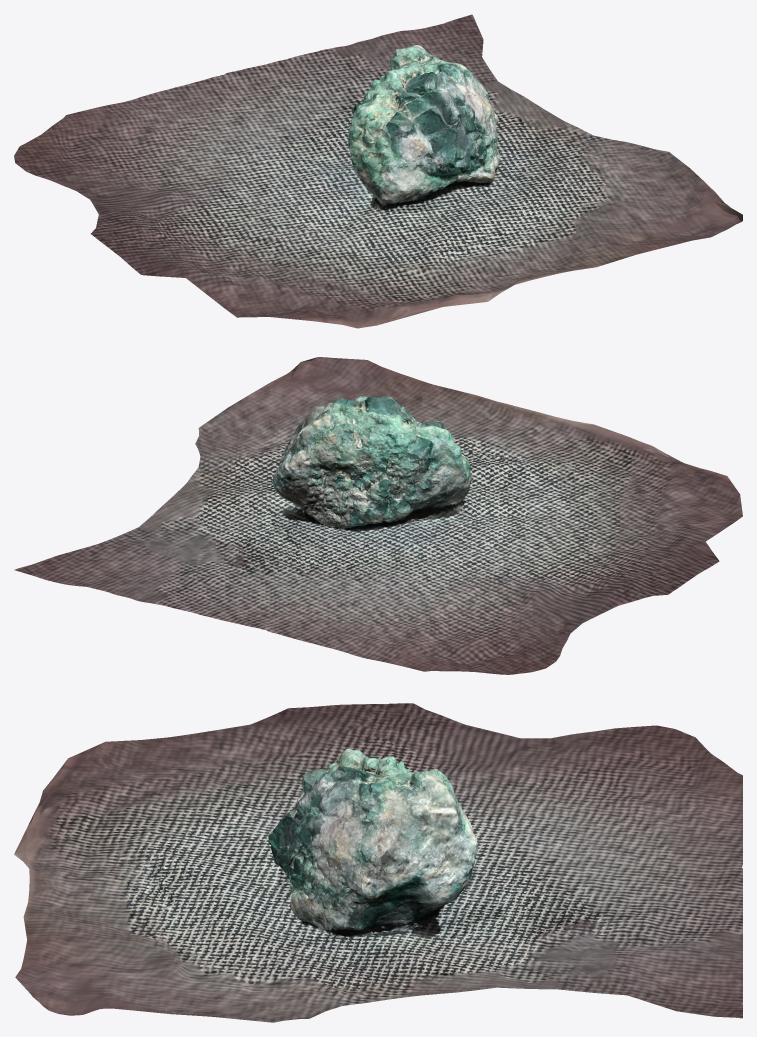
File: flourite.glb
3 views of the same model, one above another, from view 1: azimuth 30°, elevation 25°; view 2: azimuth 150°, elevation 25°; view 3: azimuth 270°, elevation 25° (orthographic). The views are drawn at different scales.
Size of the model in its own units: 2.55 by 0.55 by 2.5.
Materials: 1 (1 with a texture image).
